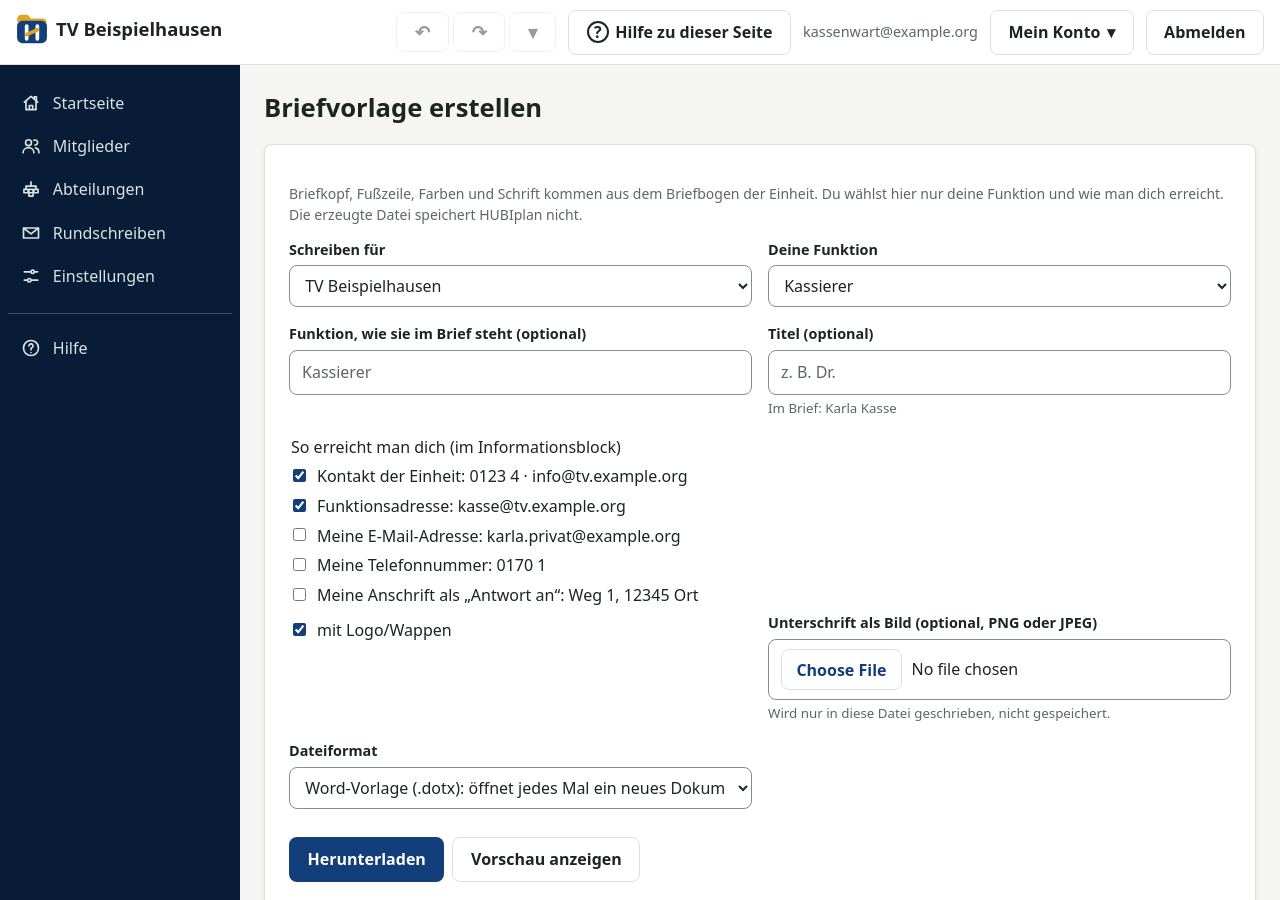
Test: Briefvorlage erstellen › wählt private Angaben nie vor und lädt mit den gewählten Kontaktwegen
Expected: the checkbox labelled "Kontakt der Einheit: 0123 4 · info@tv.example.org" is checked, [293,469,306,482]
Expected: the checkbox labelled "Funktionsadresse: kasse@tv.example.org" is checked, [293,499,306,512]
Click the checkbox labelled "Meine E-Mail-Adresse: karla.privat@example.org" at (300, 535), box [293,528,306,541]
(page scrolled)
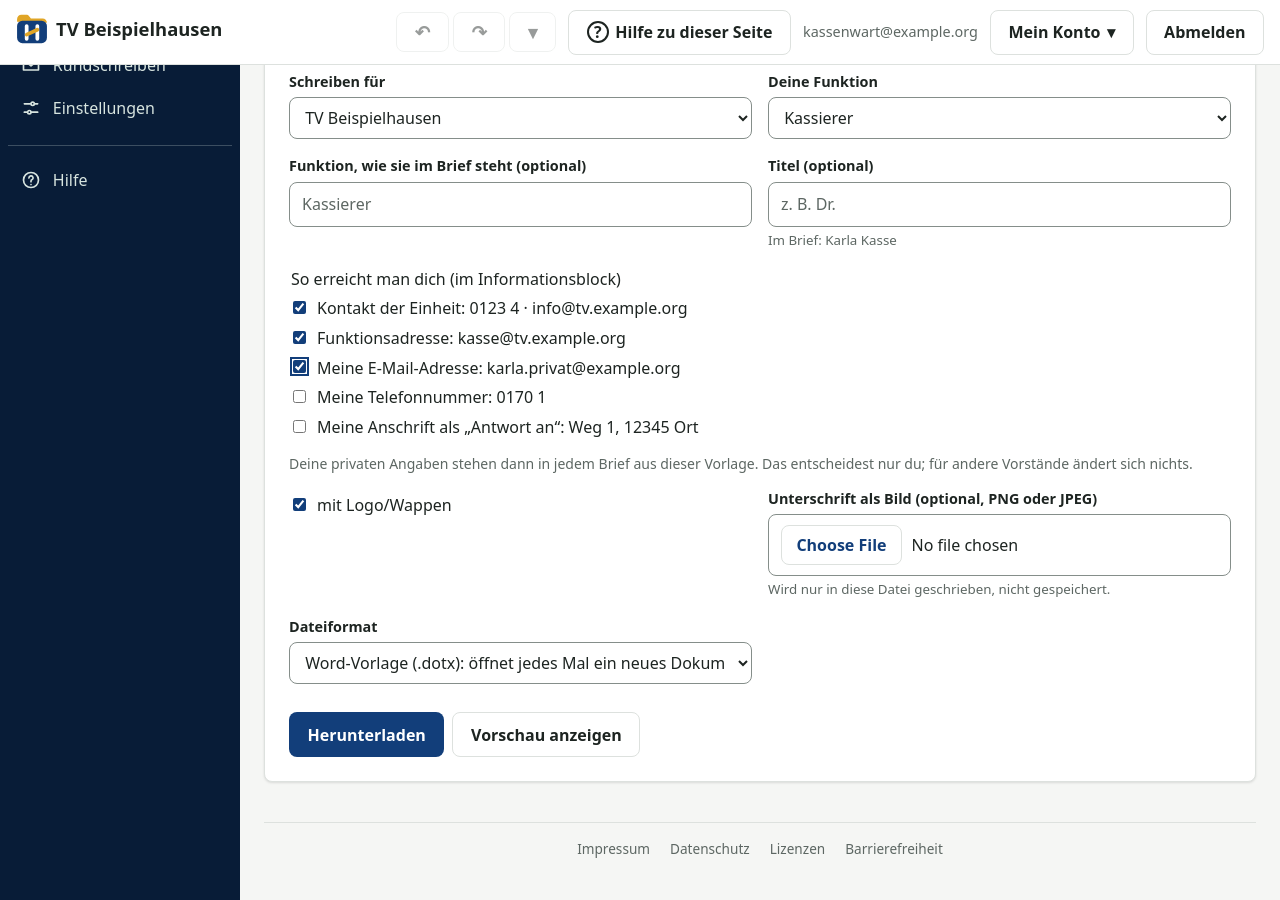
Expected: the text "Deine privaten Angaben stehen dann" is shown, [289,454,1193,473]
Click the button "Herunterladen" at (367, 735), box [289,712,444,757]
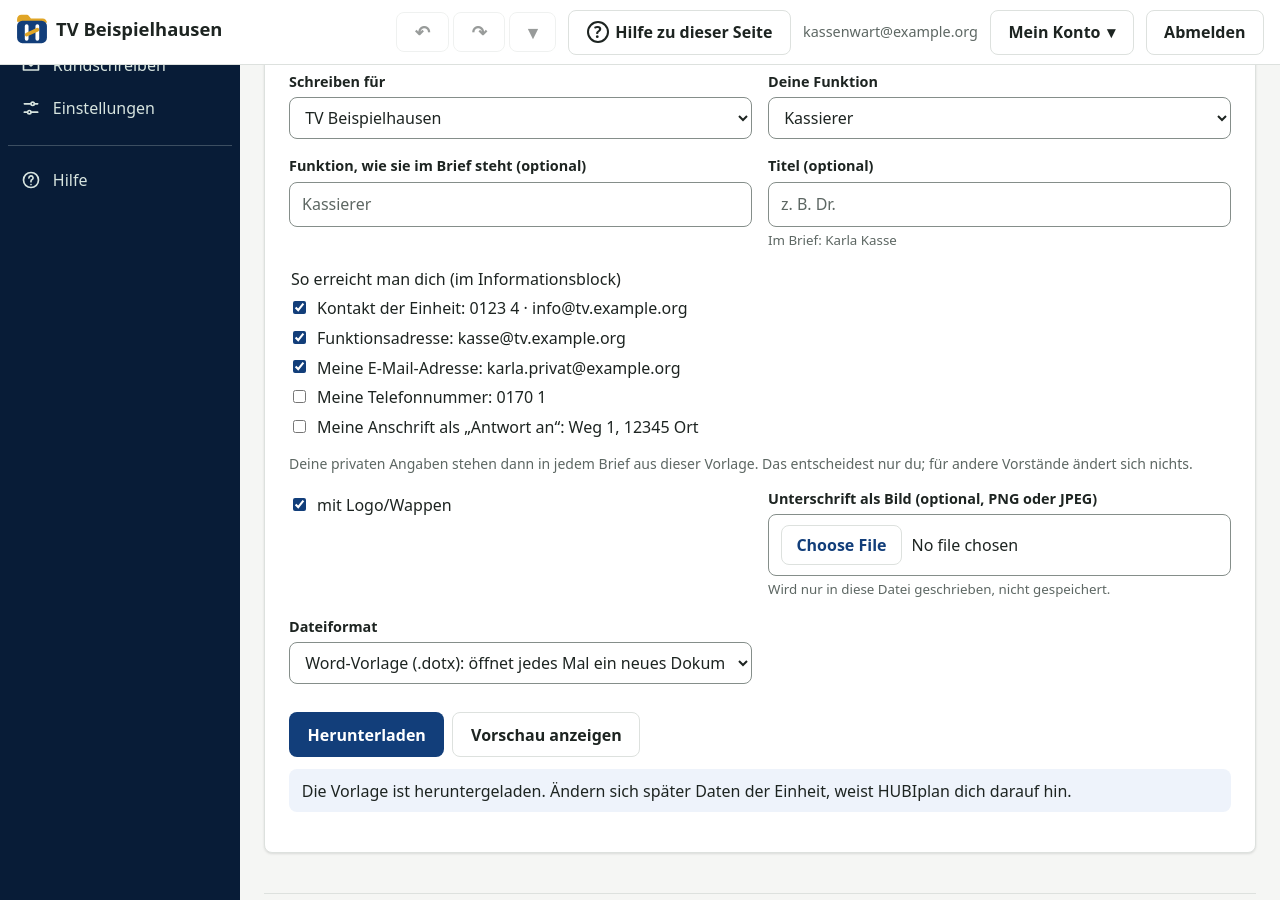
Expected: the text "Die Vorlage ist heruntergeladen" is shown, [302,780,1072,802]
